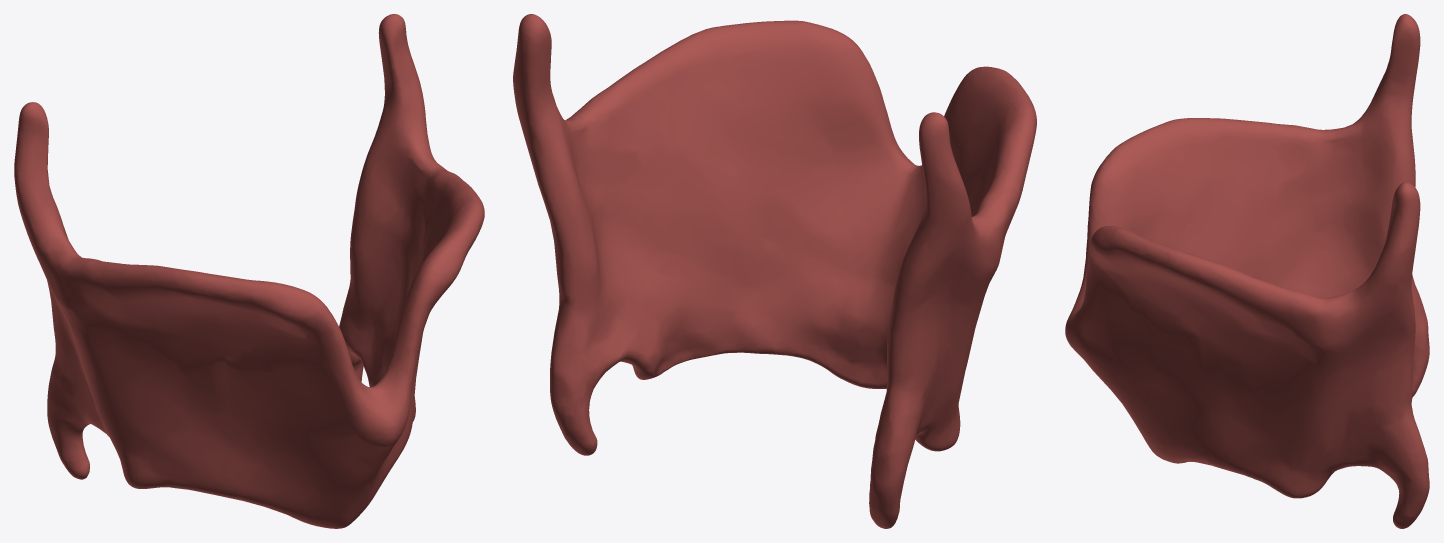
Rendered from FMA55099.glb.
3 views of the same model, side by side, from view 1: azimuth 30°, elevation 25°; view 2: azimuth 150°, elevation 25°; view 3: azimuth 270°, elevation 25° (orthographic). The views are drawn at different scales.
Visible parts, largest first — view 1: FMA55099; view 2: FMA55099; view 3: FMA55099.
Part boxes in pixels (bbox=[...]): FMA55099: bbox=[14, 14, 484, 528]; FMA55099: bbox=[513, 14, 1036, 528]; FMA55099: bbox=[1065, 14, 1429, 528].
Bounding box in the file's own units: 0.0386 × 0.0353 × 0.0317.
